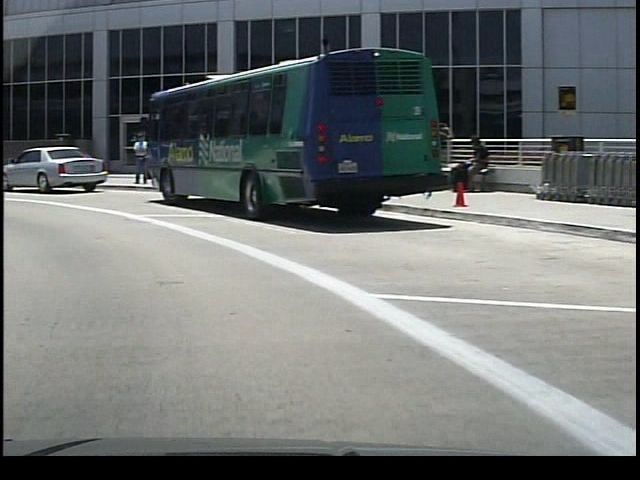person: (448, 132, 487, 196), (126, 133, 147, 186)
